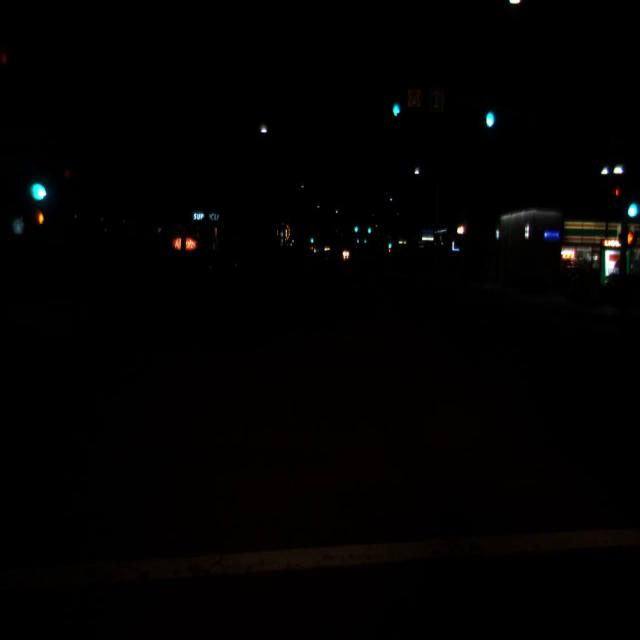go: (484, 111, 495, 127), (628, 204, 636, 216)
go left: (33, 185, 45, 199), (392, 101, 402, 114)
go left traffic light: (27, 162, 49, 206), (387, 80, 405, 120)
go traffic light: (478, 88, 498, 134), (624, 186, 638, 222)
